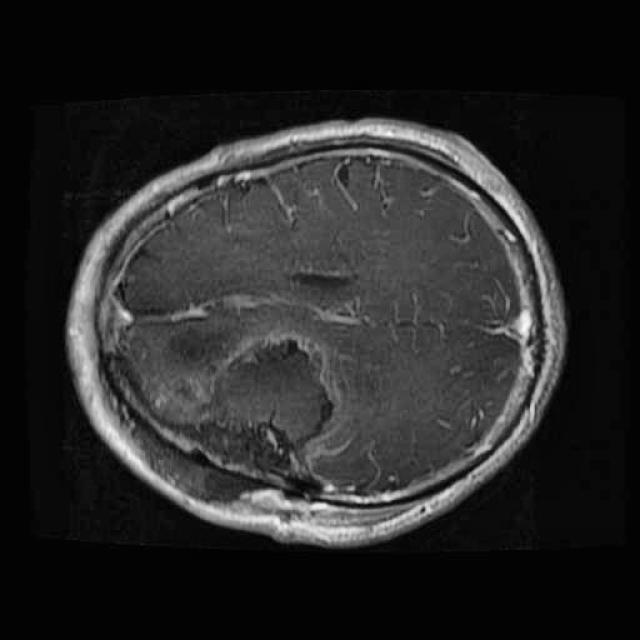Tumor: (179, 314, 345, 480)
